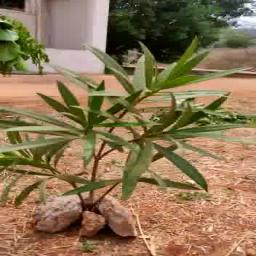OLEANDER: (10, 40, 233, 190)
